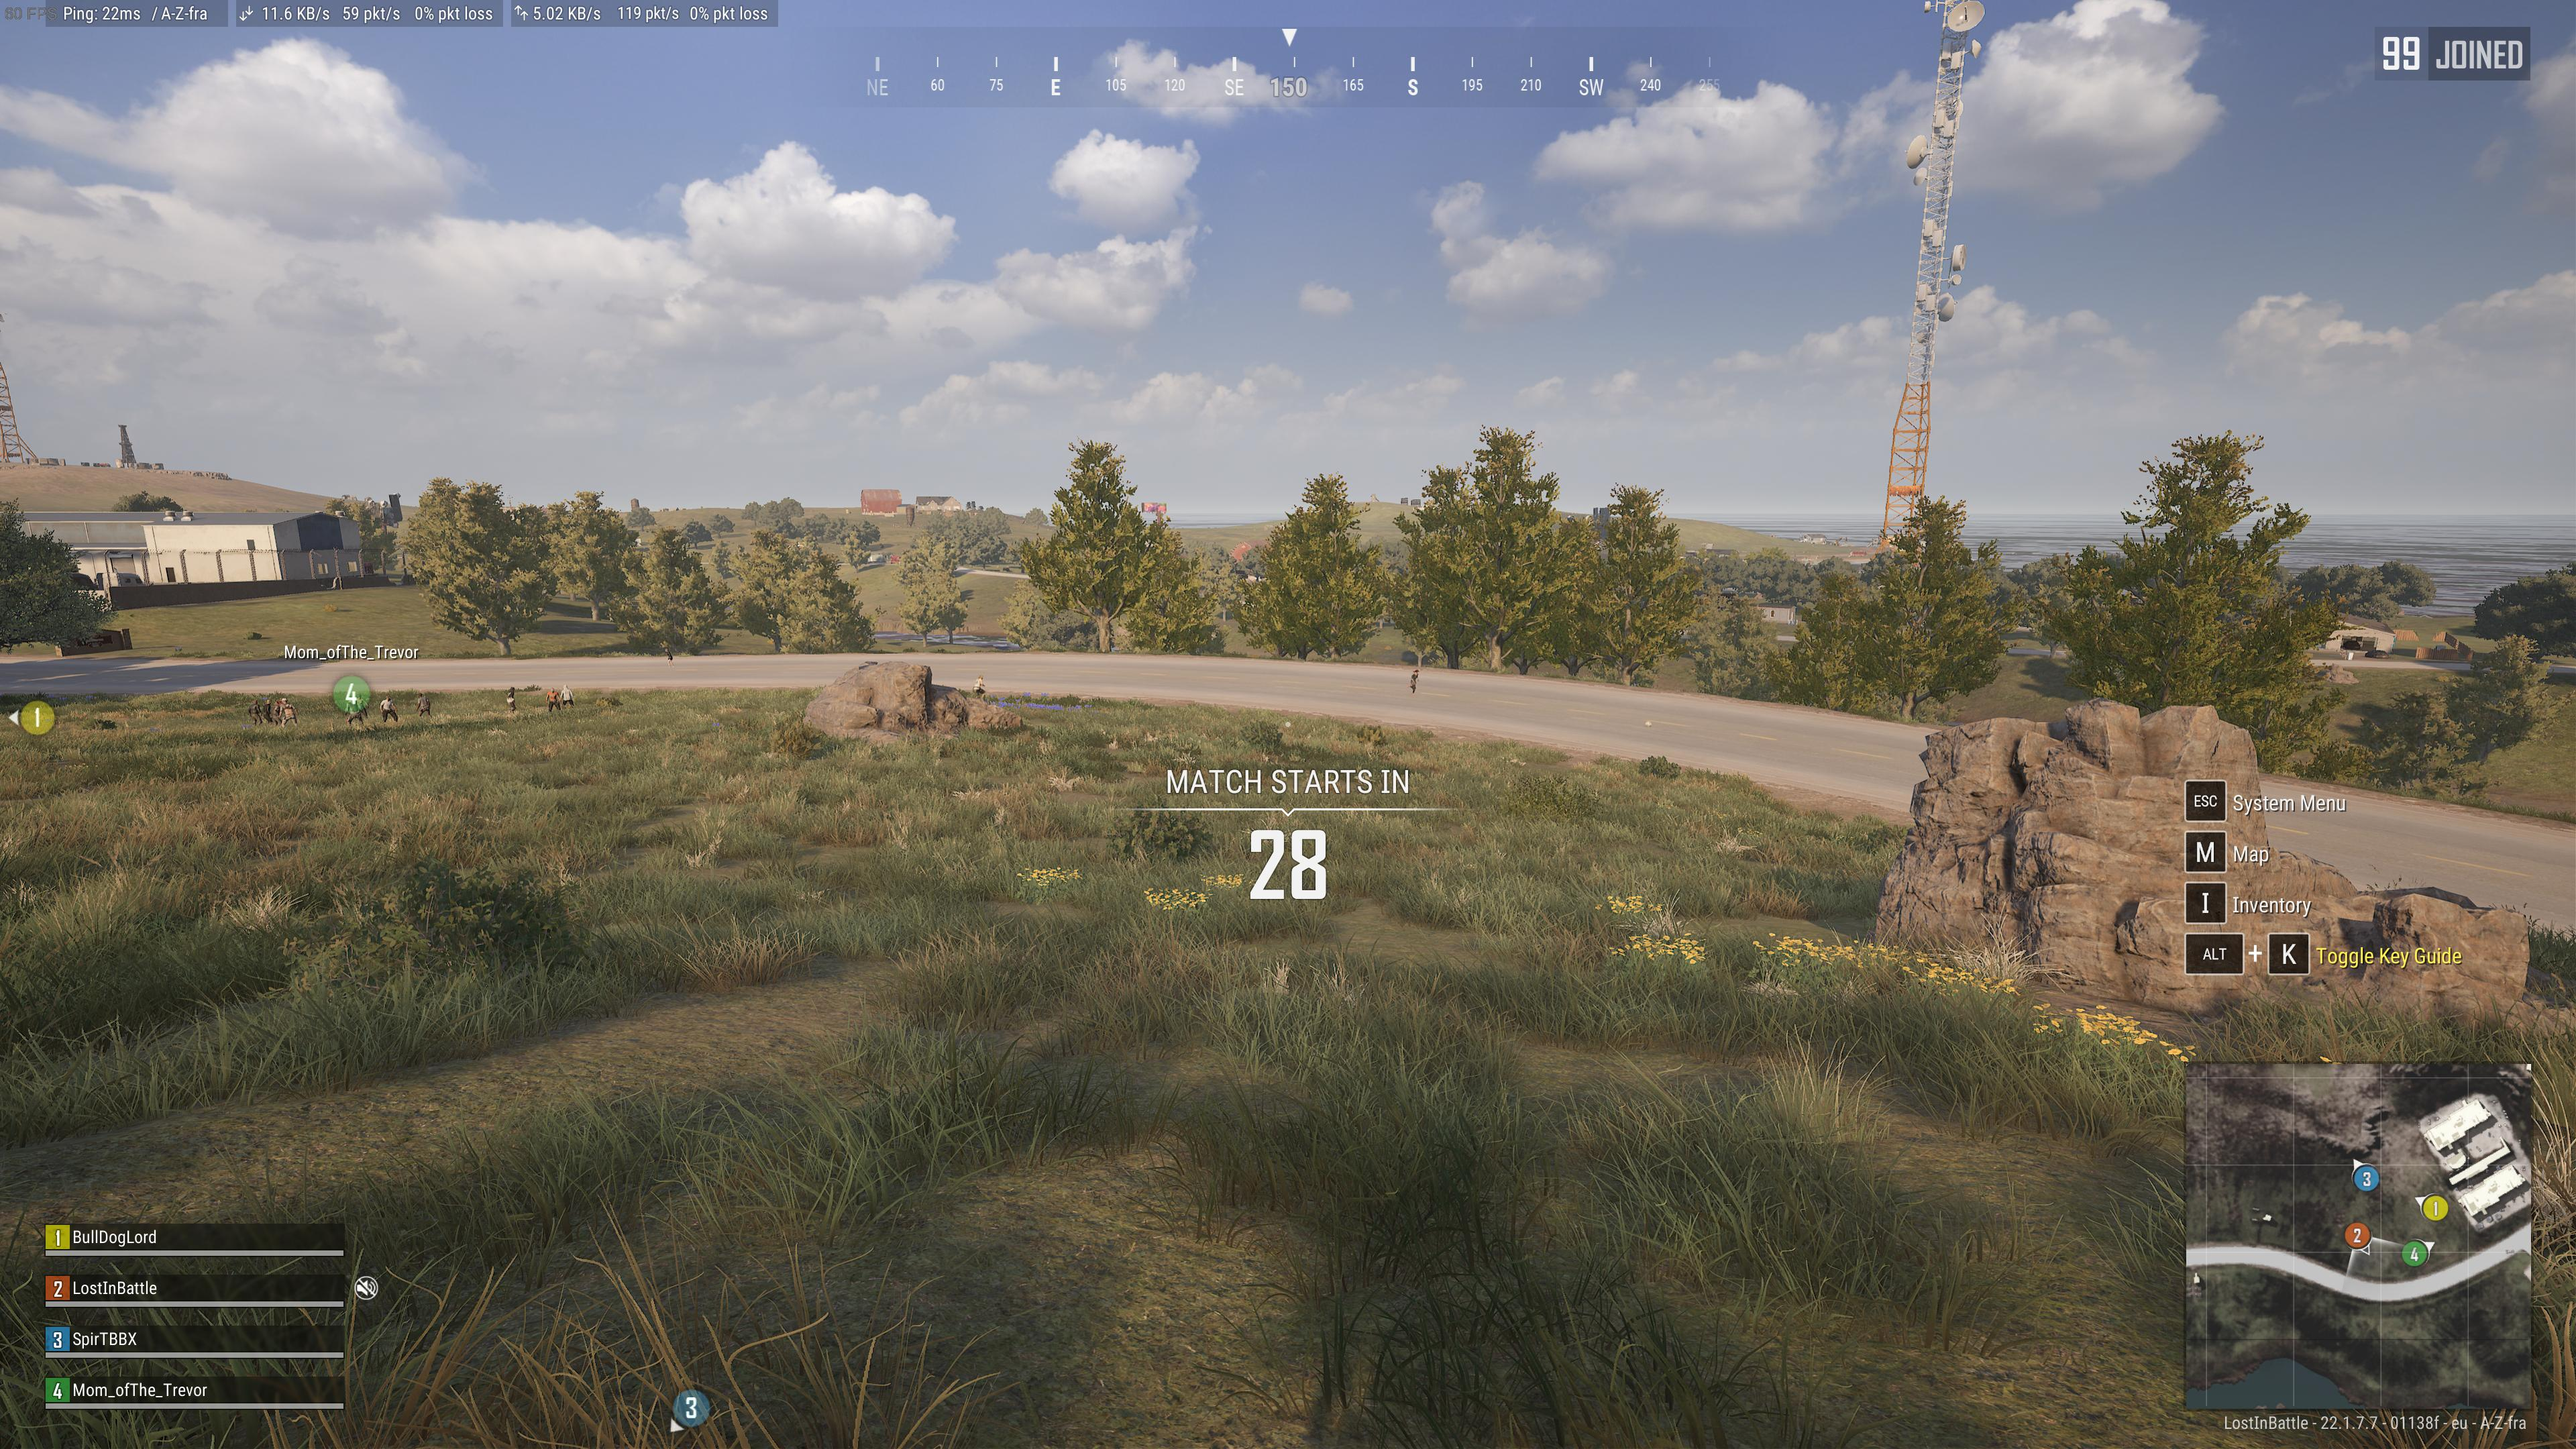enemy: (379, 694, 396, 724), (281, 697, 297, 729), (545, 686, 561, 713), (248, 699, 262, 725), (416, 692, 430, 718), (561, 683, 575, 708), (971, 674, 985, 699), (1407, 669, 1419, 695), (262, 699, 272, 725), (272, 699, 281, 725), (506, 686, 515, 713), (663, 648, 672, 667)
enemy_head: (386, 694, 391, 701), (281, 697, 288, 702), (416, 692, 421, 697), (265, 699, 271, 704), (510, 686, 515, 692), (563, 683, 568, 688), (977, 674, 982, 679), (1414, 669, 1419, 674), (253, 699, 257, 704), (550, 686, 554, 692), (663, 648, 667, 651)
friendly: (343, 690, 361, 729)
